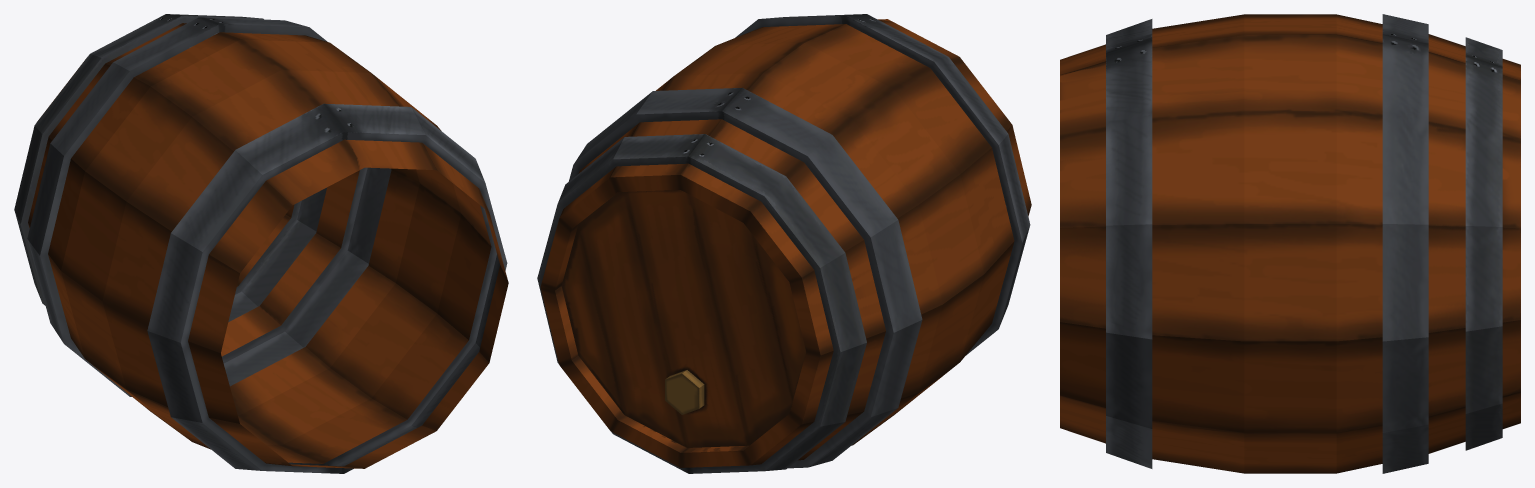
The model's file is closedBarrel.dae.
The picture shows the model from 3 angles, left to right: view 1: azimuth 30°, elevation 25°; view 2: azimuth 150°, elevation 25°; view 3: azimuth 270°, elevation 25°; orthographic projection. The views are drawn at different scales.
Parts seen in each view (by area): view 1: Cylinder_003; view 2: Cylinder_003; view 3: Cylinder_003.
Boxes of the visible parts, bbox=[...] form: Cylinder_003: bbox=[14, 14, 508, 473]; Cylinder_003: bbox=[537, 14, 1031, 473]; Cylinder_003: bbox=[1060, 14, 1520, 473].
Size of the model in its own units: 2 by 2 by 2.
1 material, 1 textured.
